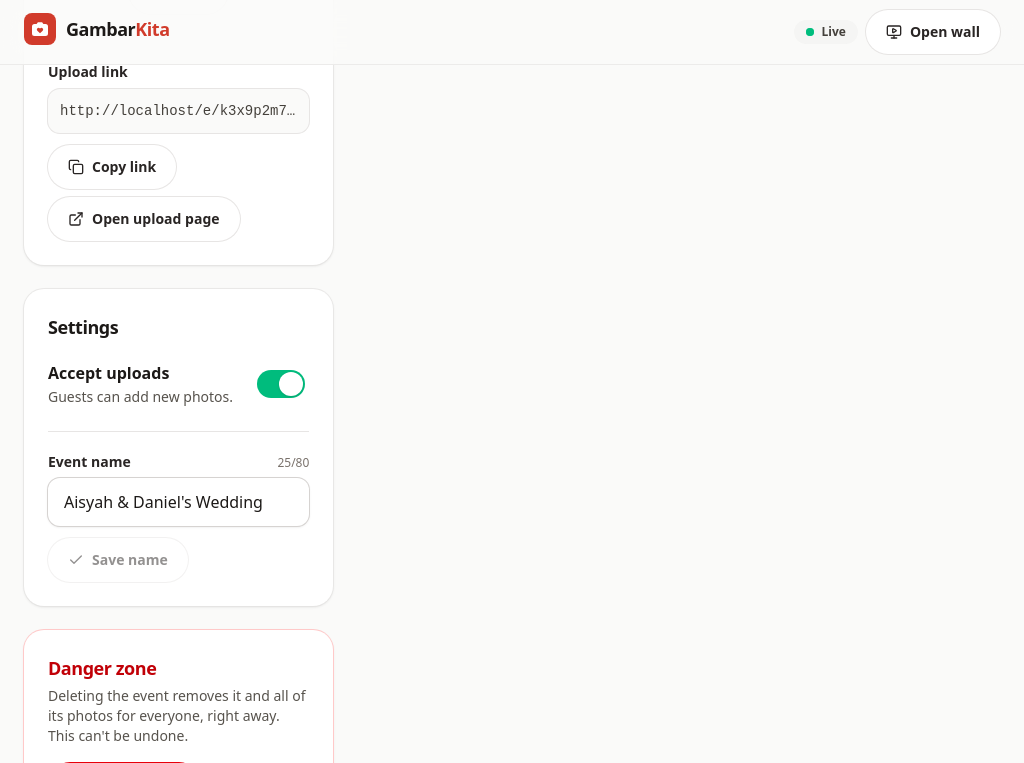
it: HostPage dashboard › rolls the uploads switch back when saving fails
This screenshot has width=1024, height=763.
(page scrolled)
Click the switch named "Accept uploads".
click(281, 384)  # box [253,362,309,406]
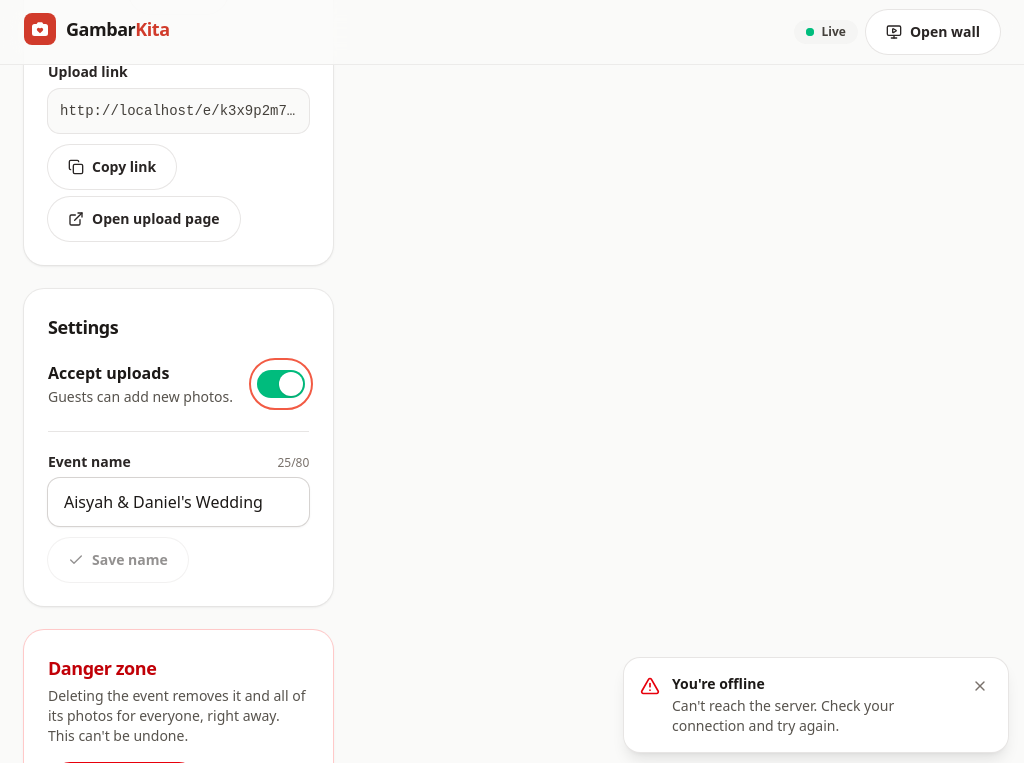
Result: the message "You're offline Can't reach the server. Check your connection and try again." is shown at [624,658,1008,752]
